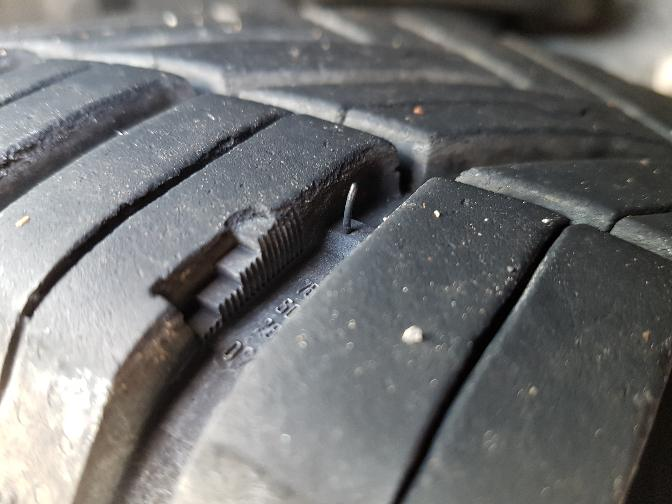temoin:90: (141, 189, 323, 356)
